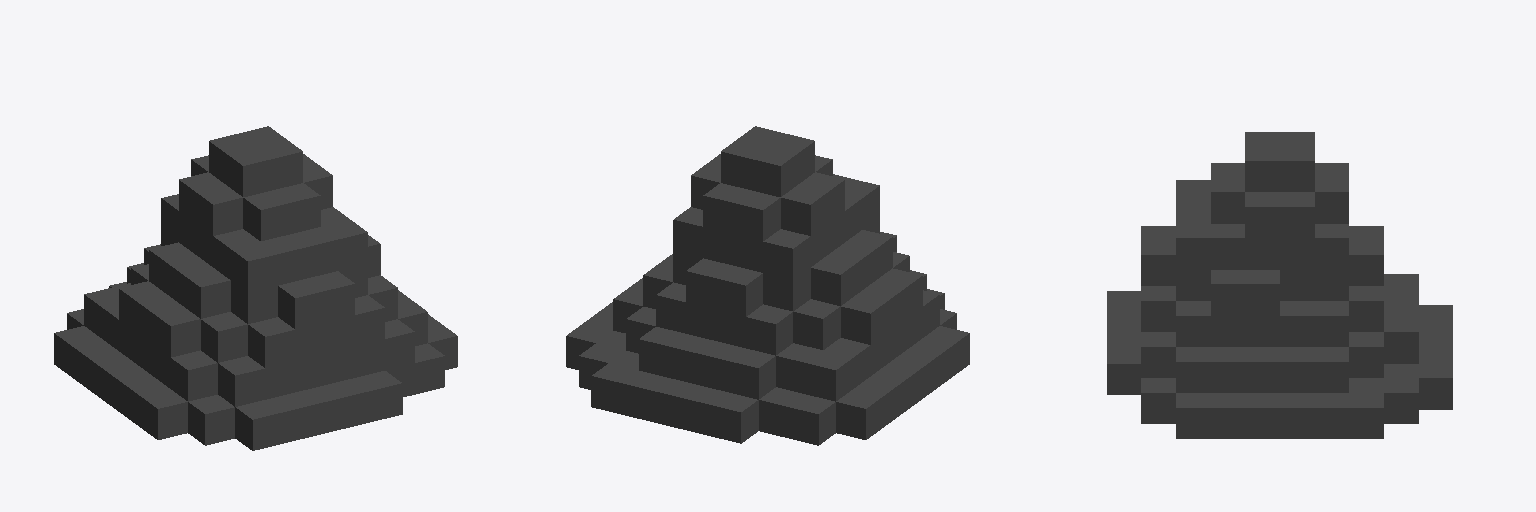
The picture shows the model from 3 angles: view 1: azimuth 30°, elevation 25°; view 2: azimuth 150°, elevation 25°; view 3: azimuth 270°, elevation 25°; orthographic projection.
Bounding box in the file's own units: 10 × 7 × 10.
1 materials, 1 textured.